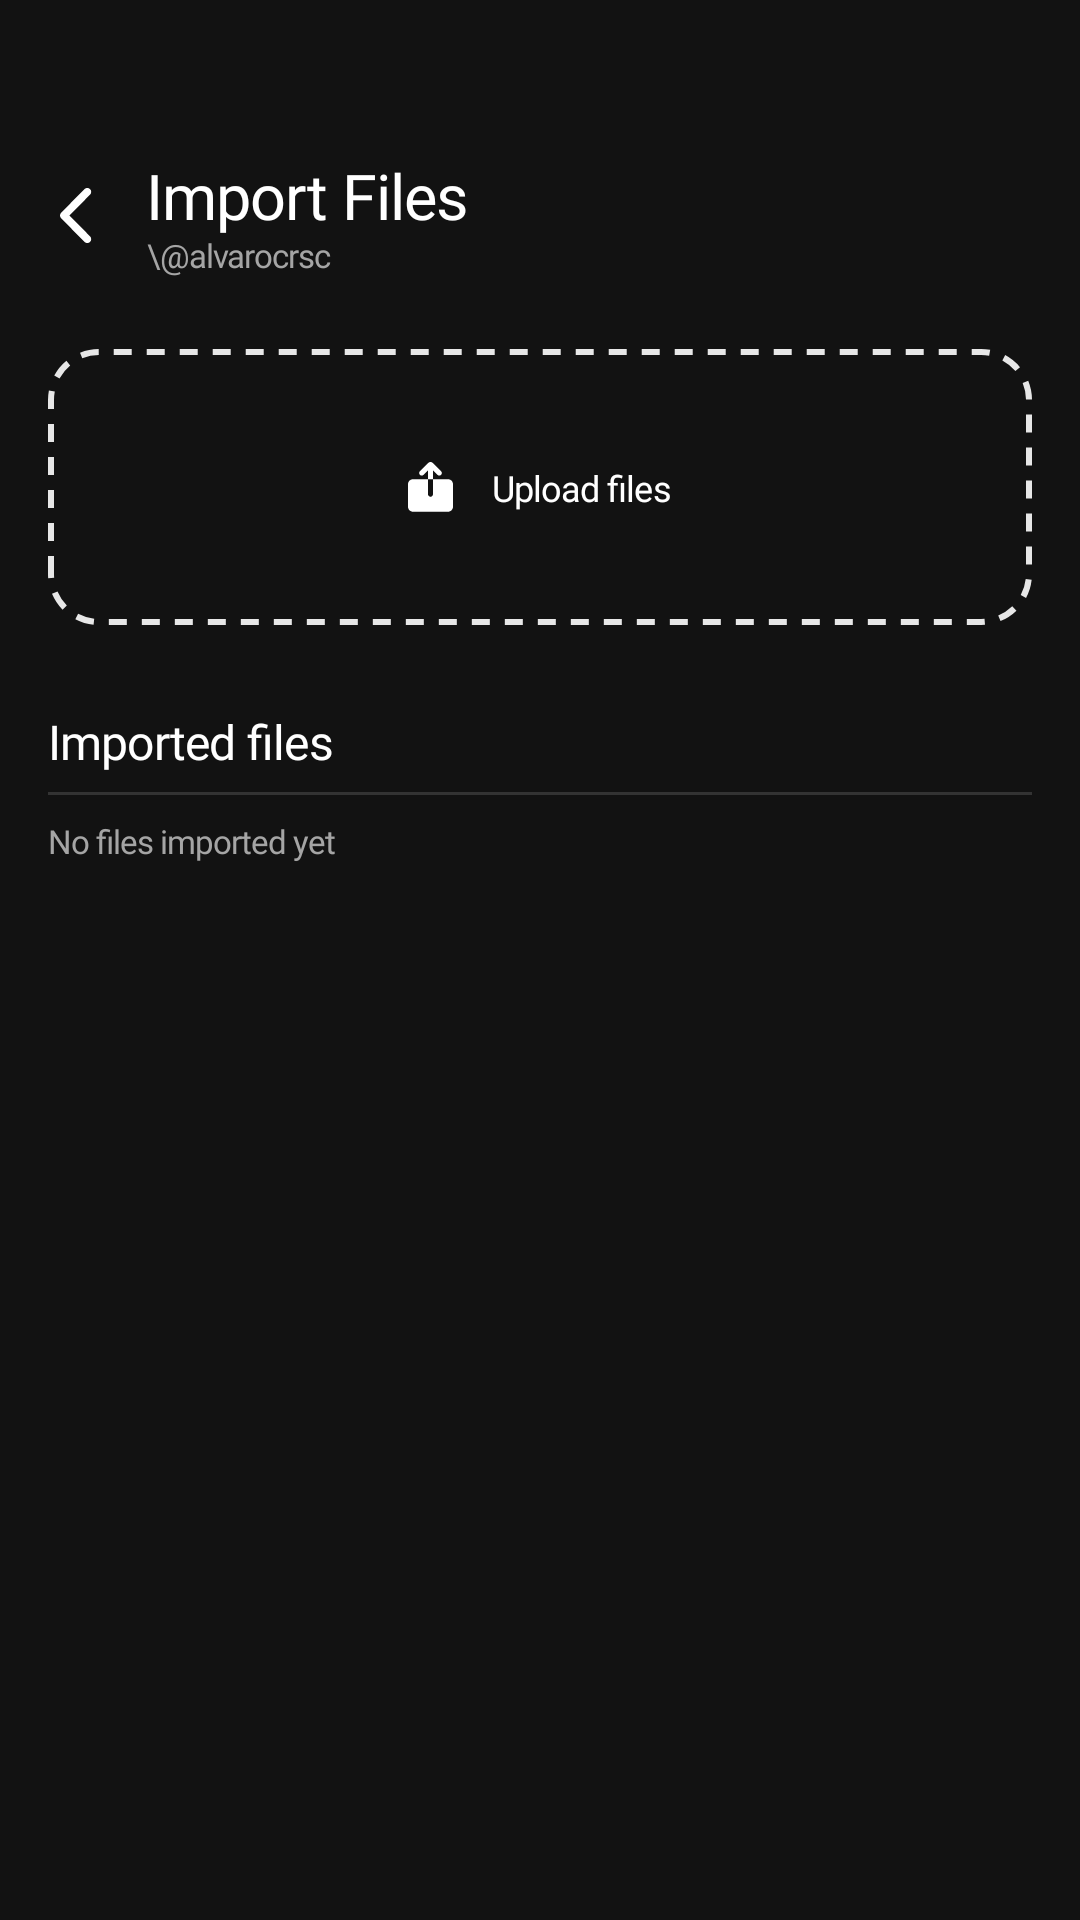

Named icons in this screenshot (1080px x 1920px) and their bounding boxes, (x1, y1, x2, y2):
back: (60, 188, 92, 243)
share: (408, 462, 453, 512)
